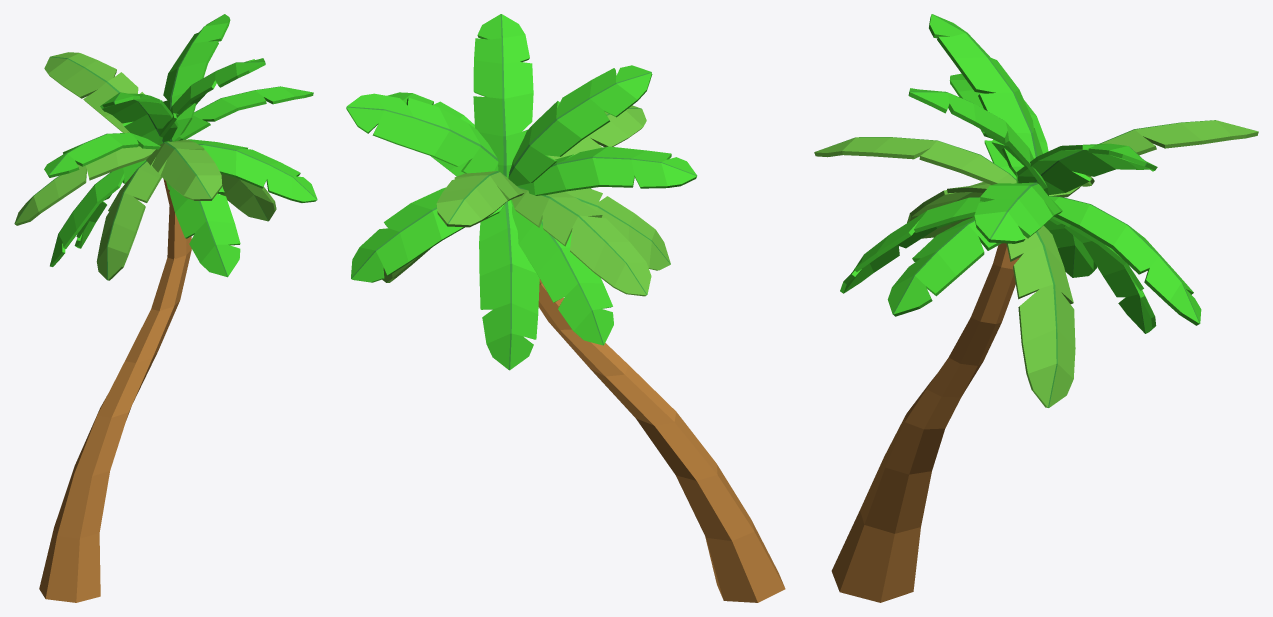
File: low_poly_coconut_3.glb
The picture shows the model from 3 angles, left to right: view 1: azimuth 30°, elevation 25°; view 2: azimuth 150°, elevation 25°; view 3: azimuth 270°, elevation 25°; orthographic projection. The views are drawn at different scales.
Visible parts, largest first — view 1: Trunk2_0, Coconut Leaves.028_14, Coconut Leaves.026_12, Coconut Leaves.022_8, Coconut Leaves.023_9, Coconut Leaves.017_3, Coconut Leaves.027_13, Coconut Leaves.020_6, Coconut Leaves.019_5, Coconut Leaves.016_2, Coconut Leaves.015_1, Coconut Leaves.024_10 (+3 smaller); view 2: Trunk2_0, Coconut Leaves.021_7, Coconut Leaves.025_11, Coconut Leaves.019_5, Coconut Leaves.020_6, Coconut Leaves.027_13, Coconut Leaves.024_10, Coconut Leaves.015_1, Coconut Leaves.018_4, Coconut Leaves.023_9, Coconut Leaves.026_12, Coconut Leaves.017_3 (+1 smaller); view 3: Trunk2_0, Coconut Leaves.029_15, Coconut Leaves.019_5, Coconut Leaves.018_4, Coconut Leaves.022_8, Coconut Leaves.017_3, Coconut Leaves.016_2, Coconut Leaves.027_13, Coconut Leaves.028_14, Coconut Leaves.023_9, Coconut Leaves.021_7, Coconut Leaves.025_11 (+3 smaller).
Part boxes in pixels (x1,y1,x2,y2): Trunk2_0: (39, 179, 191, 602); Coconut Leaves.028_14: (166, 149, 240, 277); Coconut Leaves.026_12: (96, 160, 161, 280); Coconut Leaves.022_8: (188, 139, 317, 202); Coconut Leaves.023_9: (44, 52, 144, 132); Coconut Leaves.017_3: (146, 139, 222, 200); Coconut Leaves.027_13: (163, 14, 230, 141); Coconut Leaves.020_6: (14, 146, 155, 225); Coconut Leaves.019_5: (100, 92, 178, 144); Coconut Leaves.016_2: (164, 86, 313, 142); Coconut Leaves.015_1: (44, 132, 160, 177); Coconut Leaves.024_10: (50, 160, 145, 266); Trunk2_0: (538, 279, 785, 602); Coconut Leaves.021_7: (479, 200, 539, 370); Coconut Leaves.025_11: (473, 14, 533, 178); Coconut Leaves.019_5: (508, 65, 652, 185); Coconut Leaves.020_6: (512, 186, 651, 296); Coconut Leaves.027_13: (346, 93, 498, 173); Coconut Leaves.024_10: (510, 199, 613, 345); Coconut Leaves.015_1: (517, 146, 697, 195); Coconut Leaves.018_4: (351, 187, 504, 282); Coconut Leaves.023_9: (436, 171, 524, 227); Coconut Leaves.026_12: (565, 188, 670, 270); Coconut Leaves.017_3: (547, 105, 646, 159); Trunk2_0: (831, 243, 1020, 602); Coconut Leaves.029_15: (1006, 225, 1075, 407); Coconut Leaves.019_5: (929, 14, 1042, 176); Coconut Leaves.018_4: (1049, 196, 1201, 325); Coconut Leaves.022_8: (887, 217, 1001, 316); Coconut Leaves.017_3: (814, 137, 1016, 184); Coconut Leaves.016_2: (974, 182, 1062, 243); Coconut Leaves.027_13: (1016, 143, 1157, 194); Coconut Leaves.028_14: (840, 197, 983, 293); Coconut Leaves.023_9: (1085, 120, 1258, 177); Coconut Leaves.021_7: (1050, 216, 1156, 333); Coconut Leaves.025_11: (908, 88, 1048, 195).
Size of the model in its own units: 2.72 by 3.9 by 2.5.
